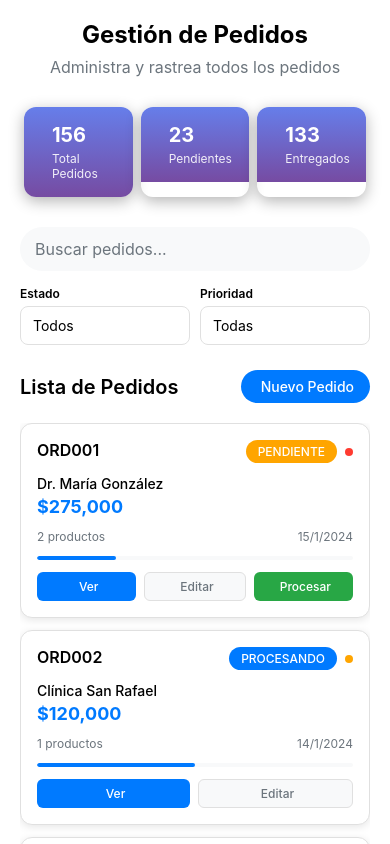
Test case: OrdersScreen › shows empty state when no orders match filters
# Buscar un texto que no existe en ningún pedido
Type "NOEXISTE123" into the field with placeholder "Buscar pedidos..." at coordinates (187, 249), box [35, 227, 339, 271]
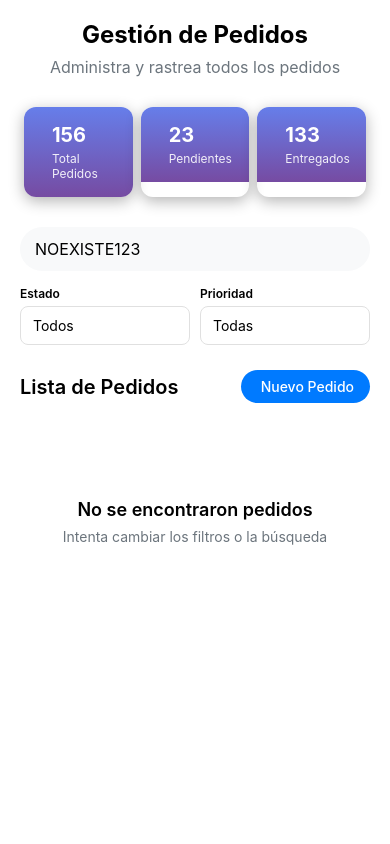
Expected: the text "No se encontraron pedidos" is shown, [77, 499, 313, 520]
Expected: the text "Intenta cambiar los filtros o la búsqueda" is shown, [63, 528, 327, 545]
